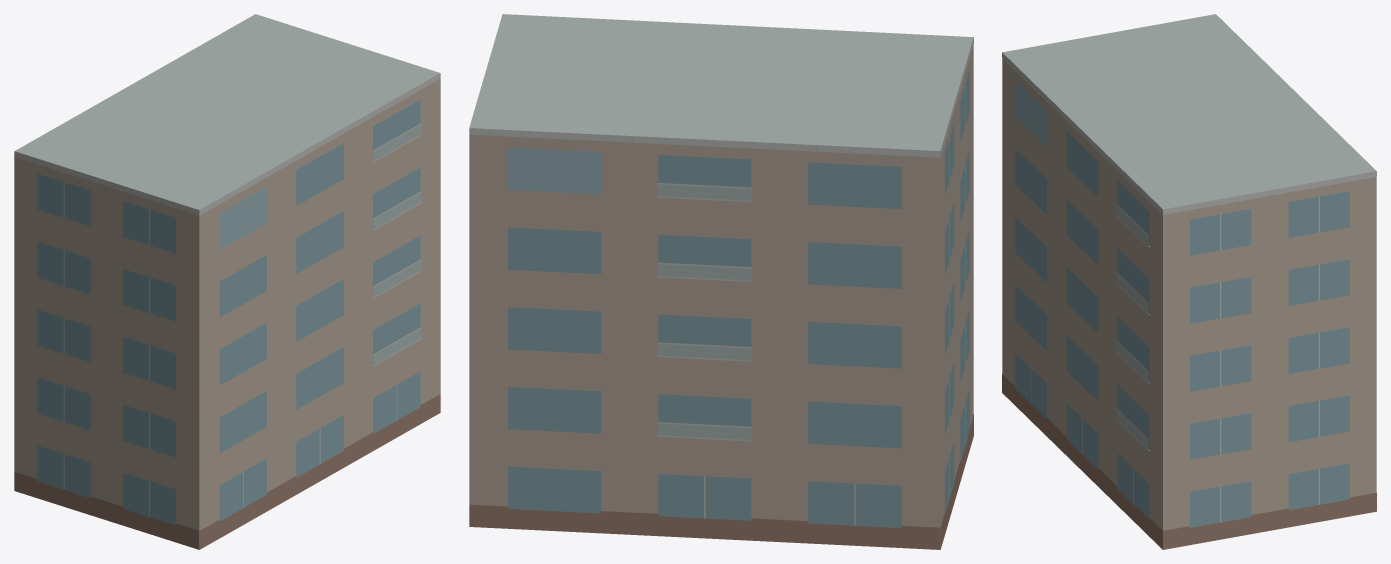
The model's file is survey-upis-32670466.glb.
3 renders of one model, left to right at view 1: azimuth 30°, elevation 25°; view 2: azimuth 150°, elevation 25°; view 3: azimuth 270°, elevation 25°, orthographic. The views are drawn at different scales.
Parts seen in each view (by area): view 1: survey-upis-32670466.tmp; view 2: survey-upis-32670466.tmp; view 3: survey-upis-32670466.tmp.
Part boxes in pixels (x1,y1,x2,y2): survey-upis-32670466.tmp: (14,14,440,549); survey-upis-32670466.tmp: (469,14,973,549); survey-upis-32670466.tmp: (1002,14,1376,549).
Bounding box in the file's own units: 18.13 × 14.72 × 14.69.
